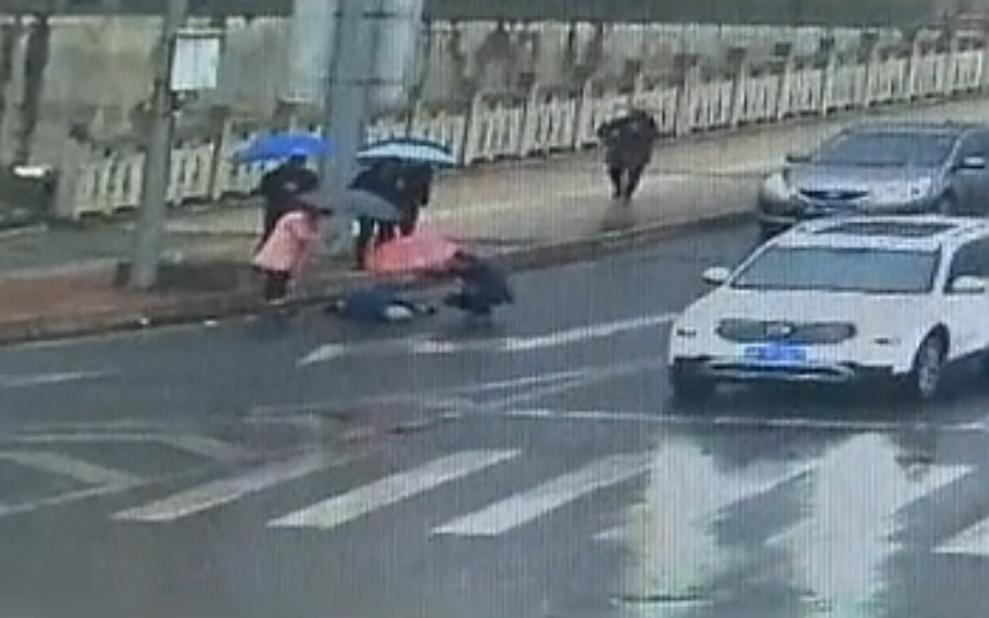fall: (319, 277, 444, 331)
